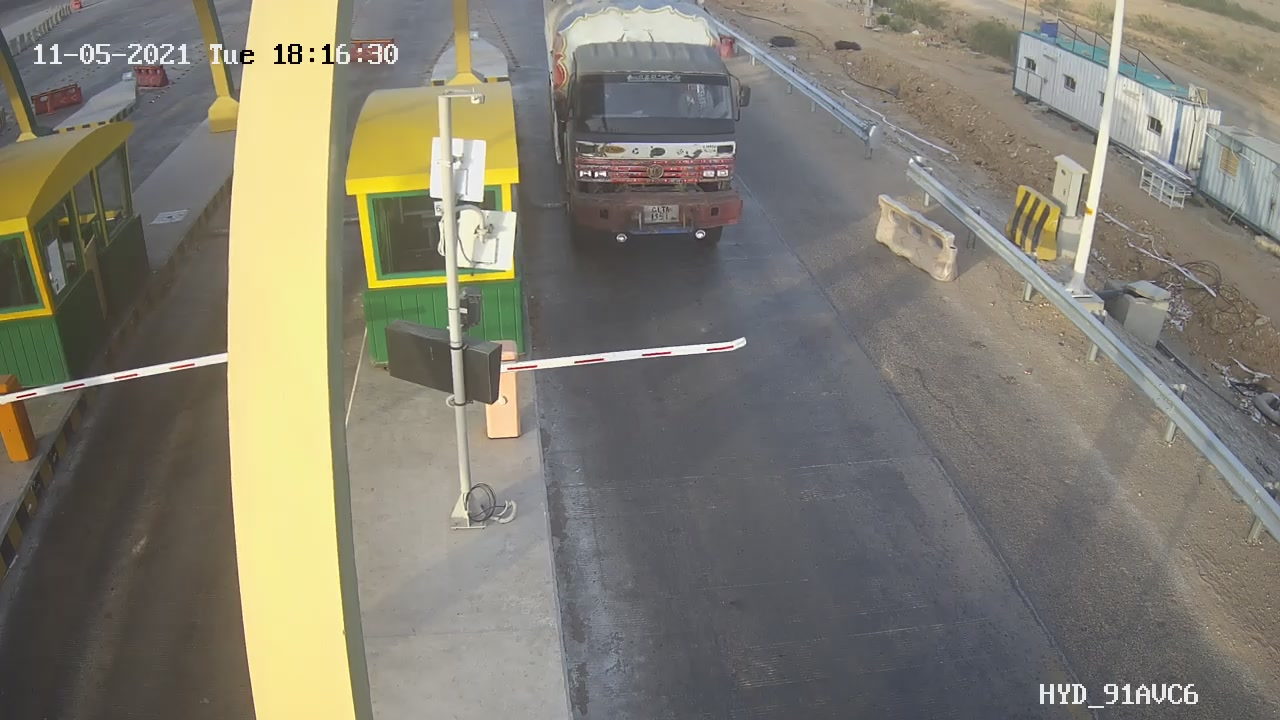F6: (540, 7, 766, 260)
